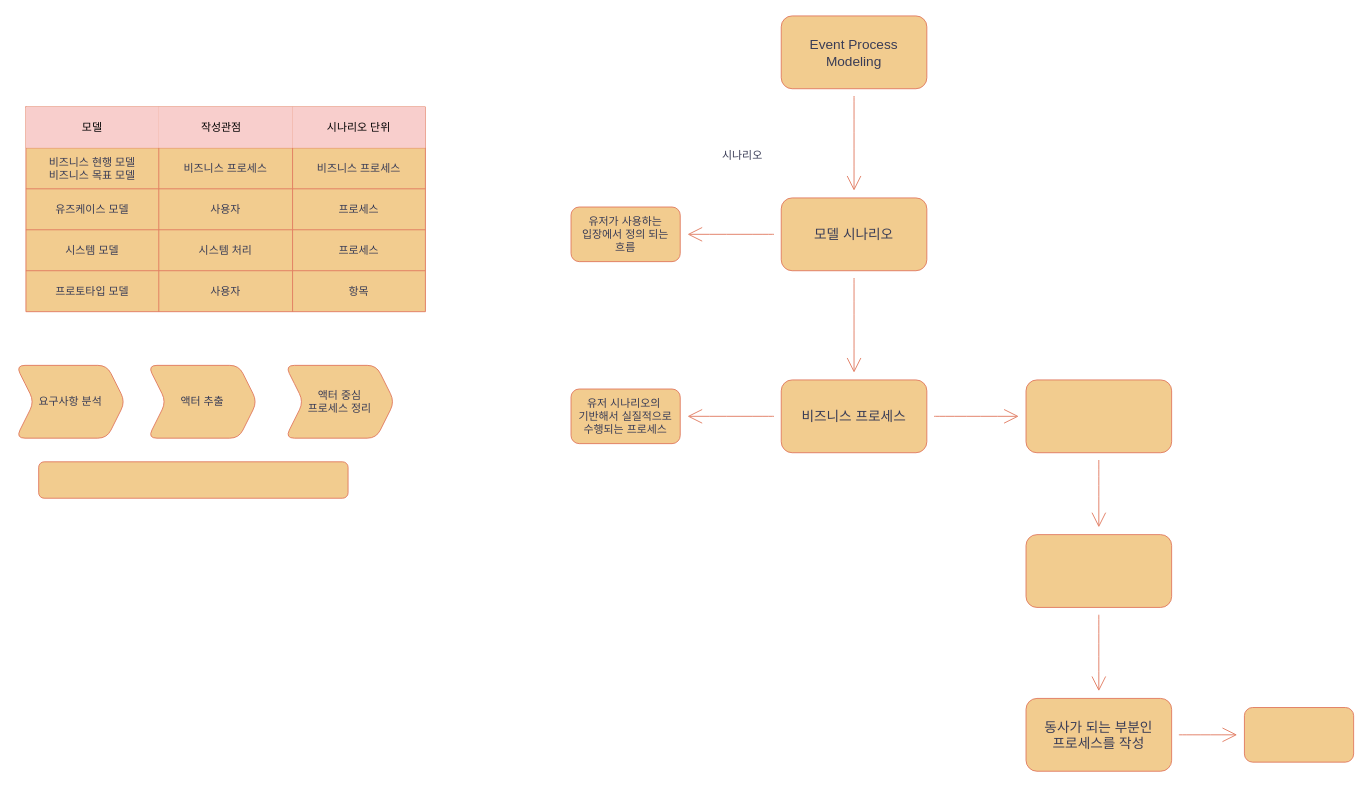
This 1370x787 diagram has some shape labels left out. The centre of each missing label's shape, as x and y in pixels:
1:1 관계로 작성: the point at 1299,734
시나리오를 작성하는 기본 단위: the point at 1098,416
액터를 구분: the point at 1098,570
주어 + 목적어 + 동사 형태의 문장: the point at 193,479
